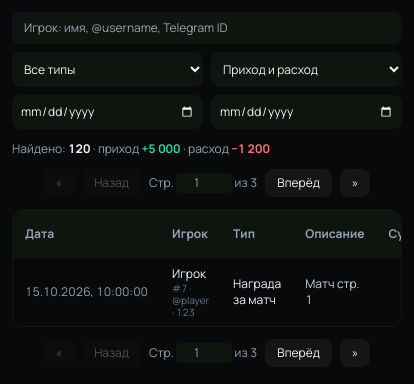
Test: admin transactions › shows totals and pages through all transactions
Expected: the text "Матч стр. 1" is shown, [293, 258, 376, 326]
Expected: the text "Найдено: 120 · приход +5 000 · расход −1 200" is shown, [12, 140, 270, 157]
What coordinates should you click on to do the following:
click the 1st button "Вперёд"
I would click on:
 (299, 183)
Its box is [265, 169, 332, 197].
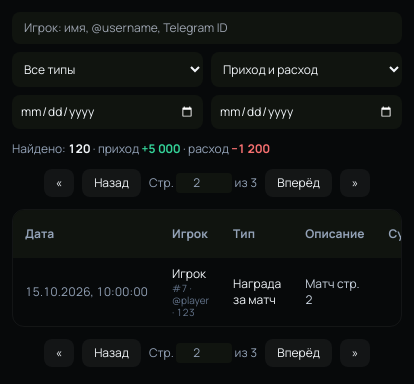
Expected: the text "Матч стр. 2" is shown, [293, 258, 376, 326]
